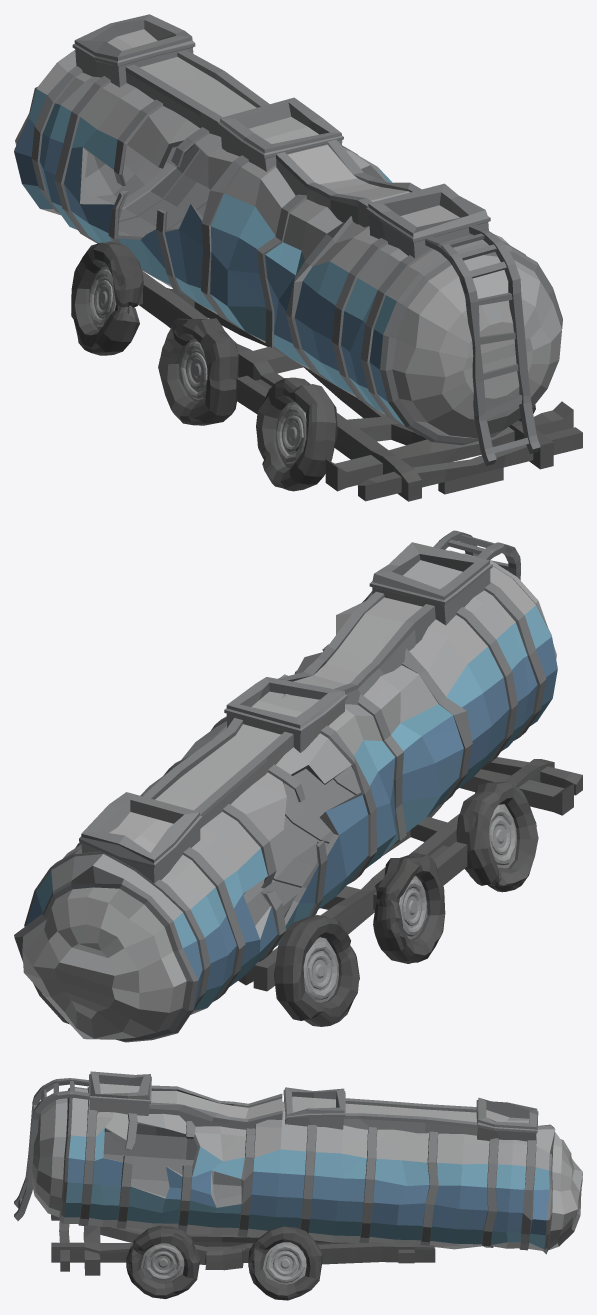
Rendered from tanker_trailer_1.glb.
3 views of the same model, one above another, from view 1: azimuth 30°, elevation 25°; view 2: azimuth 150°, elevation 25°; view 3: azimuth 270°, elevation 25° (orthographic). The views are drawn at different scales.
Visible parts, largest first — view 1: tanker, top_port, trucker, ladder, wheel.004, wheel.005, wheel.003; view 2: tanker, top_port, trucker, wheel.003, wheel.004, wheel.005, ladder; view 3: tanker, top_port, trucker, wheel.001, wheel.002, ladder.
Part boxes in pixels (left/top/right/bottom): tanker: left=14, top=50, right=562, bottom=445; top_port: left=72, top=14, right=490, bottom=257; trucker: left=138, top=270, right=582, bottom=501; ladder: left=425, top=225, right=540, bottom=466; wheel.004: left=256, top=377, right=337, bottom=491; wheel.005: left=158, top=318, right=238, bottom=425; wheel.003: left=71, top=241, right=143, bottom=355; tanker: left=14, top=550, right=557, bottom=1042; top_port: left=79, top=542, right=492, bottom=883; trucker: left=238, top=757, right=582, bottom=991; wheel.003: left=274, top=915, right=359, bottom=1026; wheel.004: left=456, top=781, right=538, bottom=892; wheel.005: left=373, top=852, right=445, bottom=963; ladder: left=433, top=530, right=520, bottom=580; tanker: left=31, top=1087, right=582, bottom=1254; top_port: left=89, top=1071, right=538, bottom=1141; trucker: left=51, top=1214, right=435, bottom=1275; wheel.001: left=248, top=1226, right=322, bottom=1300; wheel.002: left=126, top=1225, right=200, bottom=1298; ladder: left=14, top=1078, right=89, bottom=1220.
Bounding box in the file's own units: 3.82 × 4.03 × 11.19.
1 material, 1 textured.
